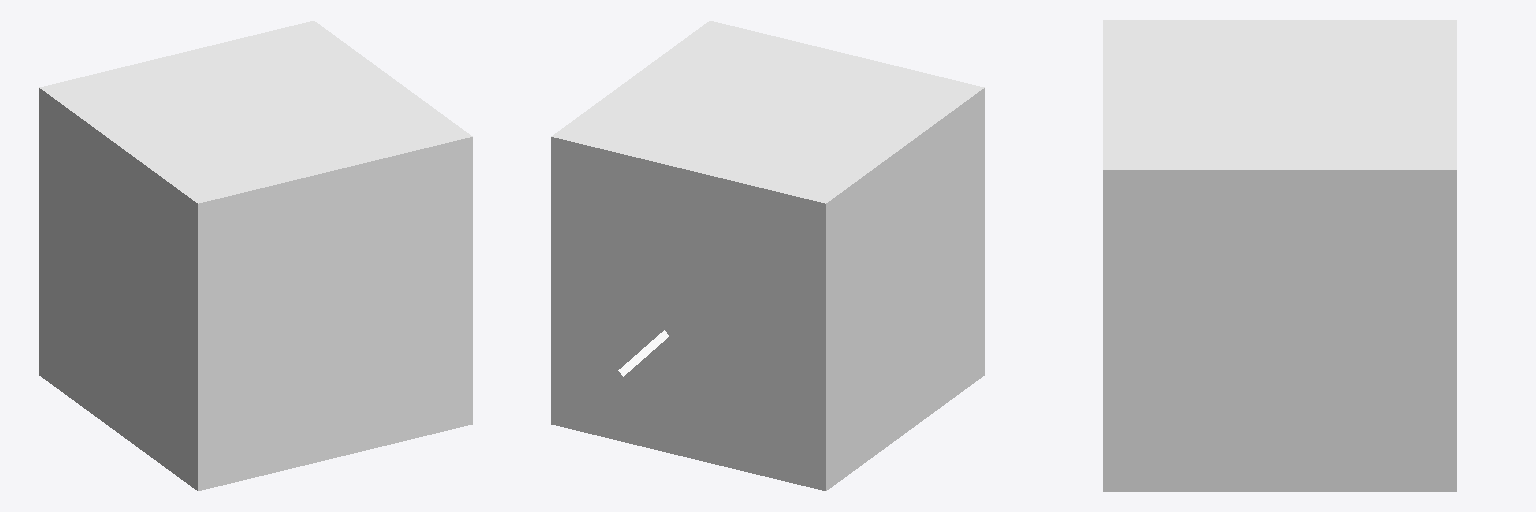
The robot description file, URDF, robot "Circle_cube_bottle":
<?xml version="1.0" ?>
<robot name="Circle_cube_bottle">
  <link name="baseLink">
    <contact>
    	<friction_anchor/>
    	   <lateral_friction value="1.0"/>
    </contact>
    <inertial>
      <origin rpy="0 0 0" xyz="0 0 0"/>
       <!-- mass controls penetration -->
       <mass value=".5"/>
       <inertia ixx="1e-4" ixy="0" ixz="0" iyy="1e-4" iyz="0" izz="1e-4"/>
    </inertial>
    <visual>
      <origin rpy="0 0 0" xyz="0 0 0"/>
      <geometry>
        <mesh filename="Circle_cube_bottle.obj"/>
      </geometry>
       <material name="white">
        <color rgba="1 1 1 1"/>
      </material>
    </visual>
    <collision>
      <origin rpy="0 0 0" xyz="0 0 0"/>
      <geometry>
        <mesh filename="Circle_cube_bottle.obj"/>
      </geometry>
    </collision>
  </link>
</robot>

--- Render facts (derived) ---
Views: 3 orthographic renders of the robot side by side, from view 1: azimuth 30°, elevation 25°; view 2: azimuth 150°, elevation 25°; view 3: azimuth 270°, elevation 25°.
Model Circle_cube_bottle with 1 links and 0 joints (none), rooted at baseLink, posed every joint at zero.
Links seen in each view (by area): view 1: baseLink; view 2: baseLink; view 3: baseLink.
Boxes of the visible links, <box> form: baseLink: <box>39,21,472,490</box>; baseLink: <box>551,21,984,490</box>; baseLink: <box>1103,20,1456,491</box>.
Size in the robot's own frame: 0.08 by 0.08 by 0.08 metres.
1 mesh visuals loaded from 1 distinct referenced files (1 OBJ).